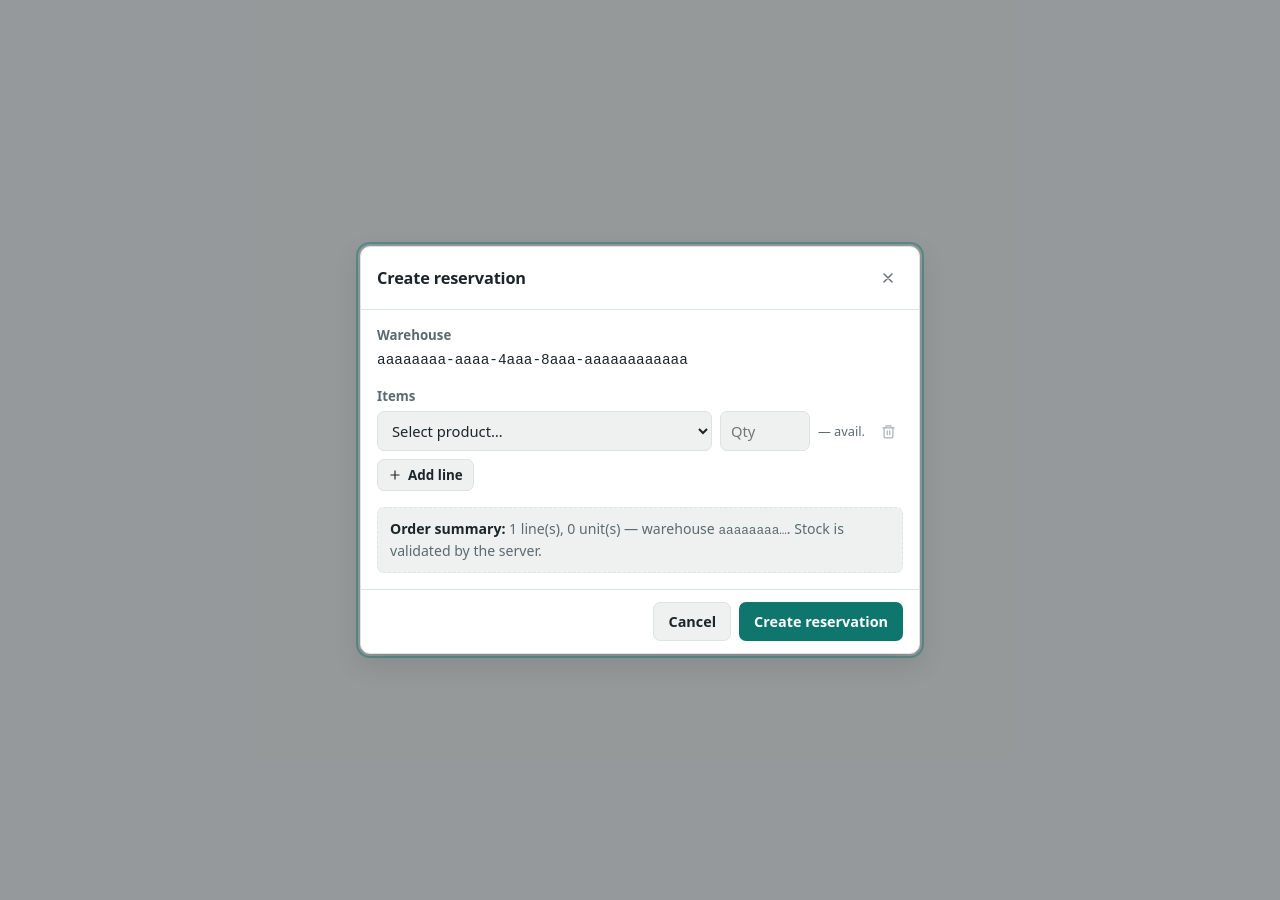
CreateReservationModal › surfaces backend error codes and messages (insufficient stock)
Select "bbbbbbbb…" in the dropdown named "Product for line": [544, 431] box [377,411,712,451]
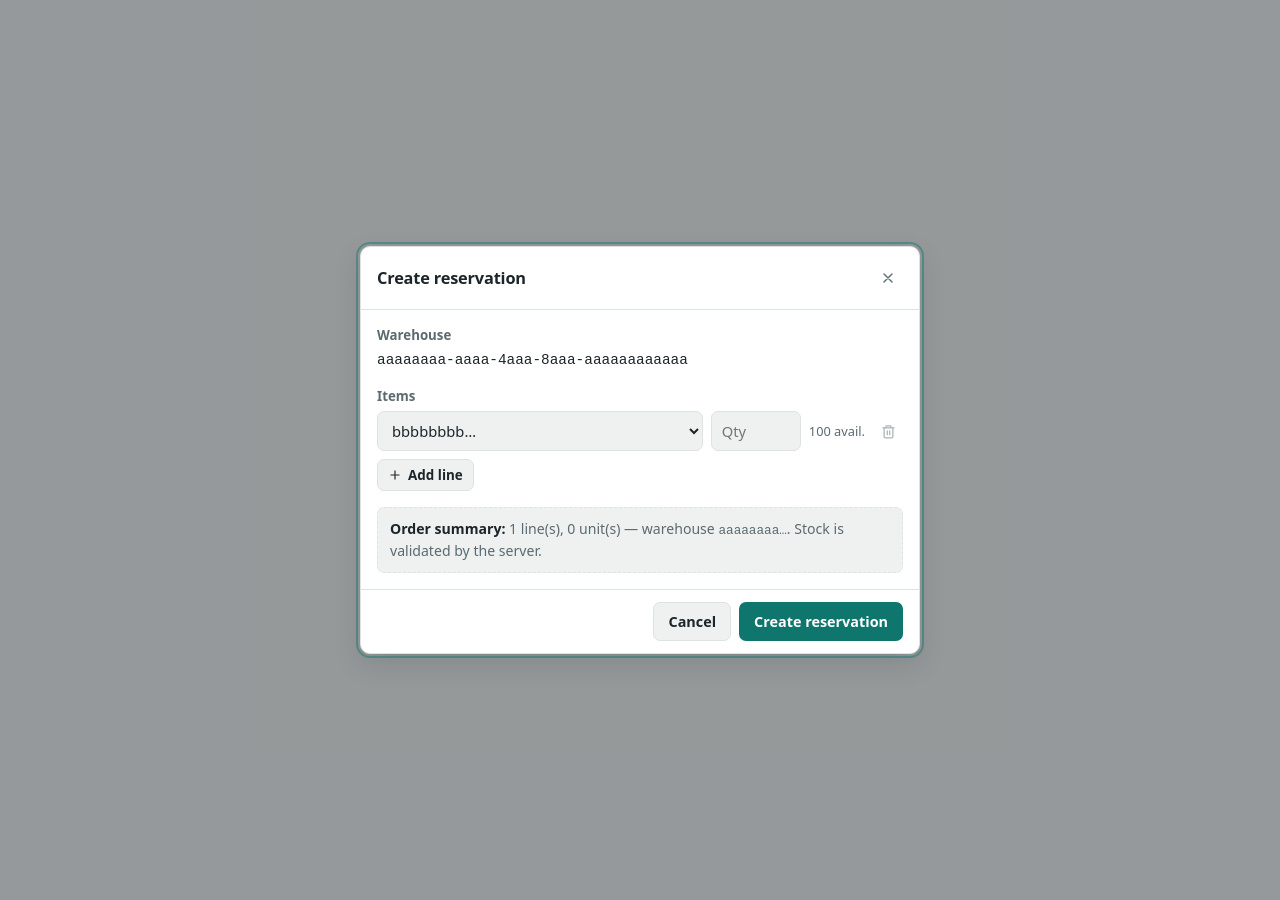
In the field named "Quantity for line": [756, 431] box [711,411,801,451], type "5"
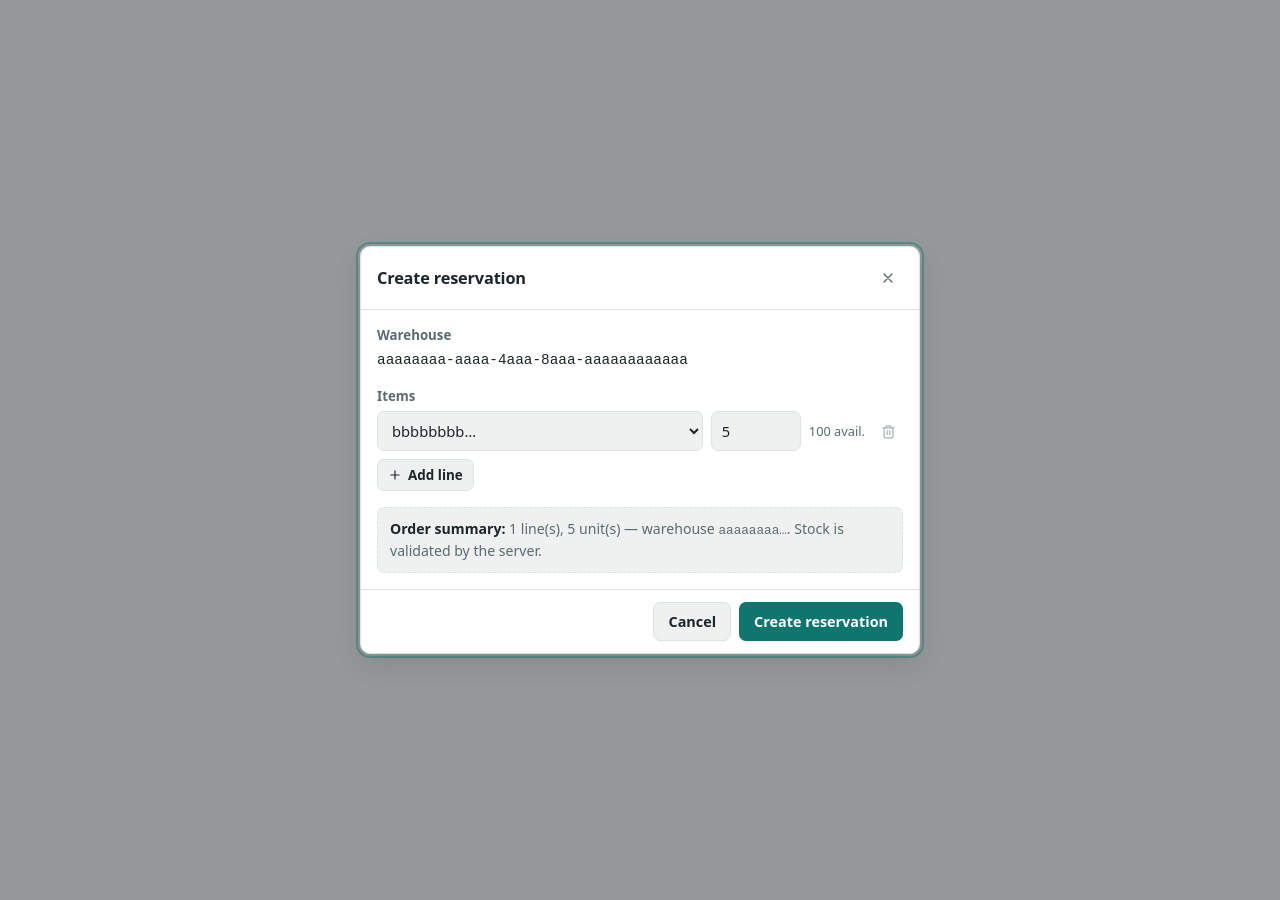
Submit the form with id "create-reservation-form", box [377,326,903,573]
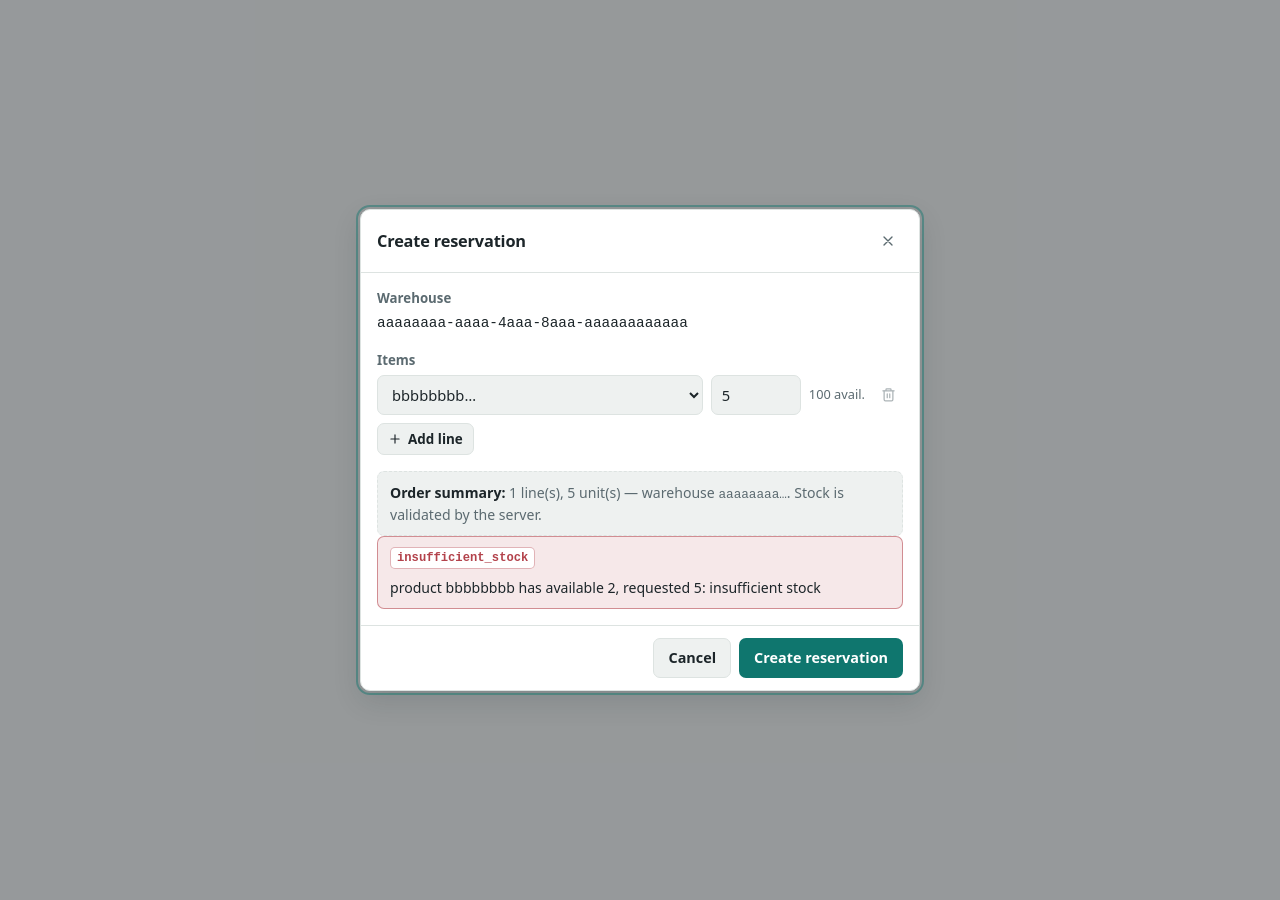
Expected: the button "Create reservation" is shown, [739,638,903,678]
Expected: the message shows "insufficient_stock", [397,551,528,565]
Expected: the message shows "available 2, requested 5", [390,578,821,597]
